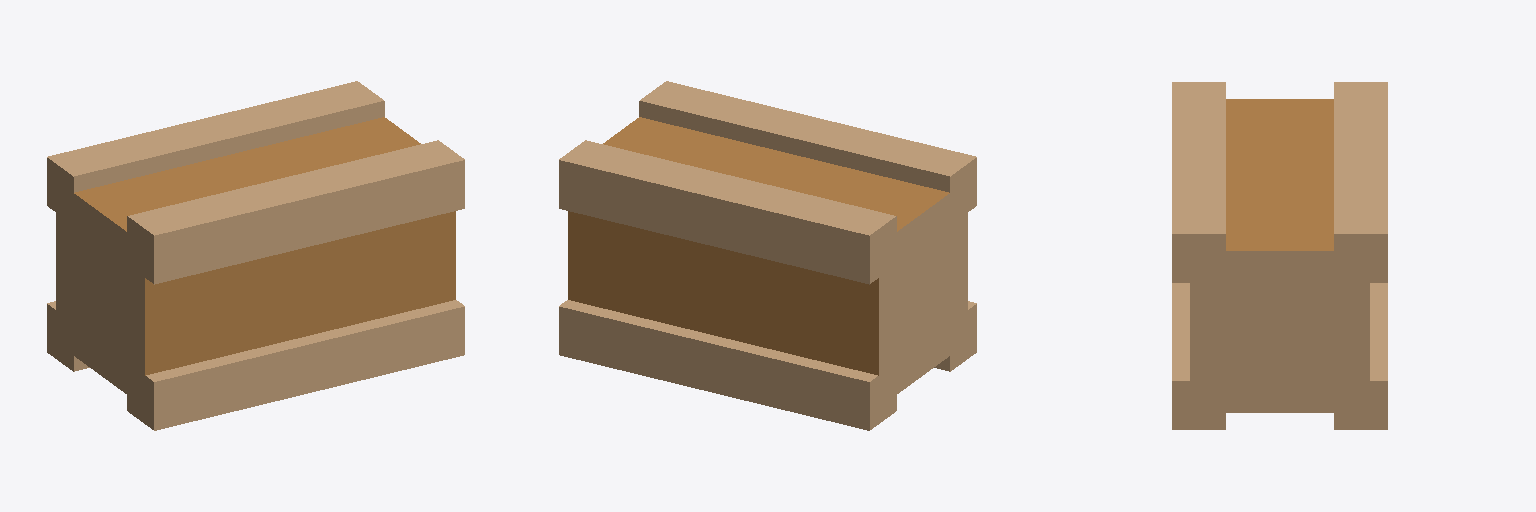
The model's file is Pillar_Large_Beam.obj.
The picture shows the model from 3 angles: view 1: azimuth 30°, elevation 25°; view 2: azimuth 150°, elevation 25°; view 3: azimuth 270°, elevation 25°; orthographic projection.
Parts seen in each view (by area): view 1: object1; view 2: object1; view 3: object1.
Boxes of the visible parts, <box> form: object1: <box>47,81,464,430</box>; object1: <box>559,81,976,430</box>; object1: <box>1172,82,1387,429</box>.
Size of the model in its own units: 1 by 0.6 by 0.6.